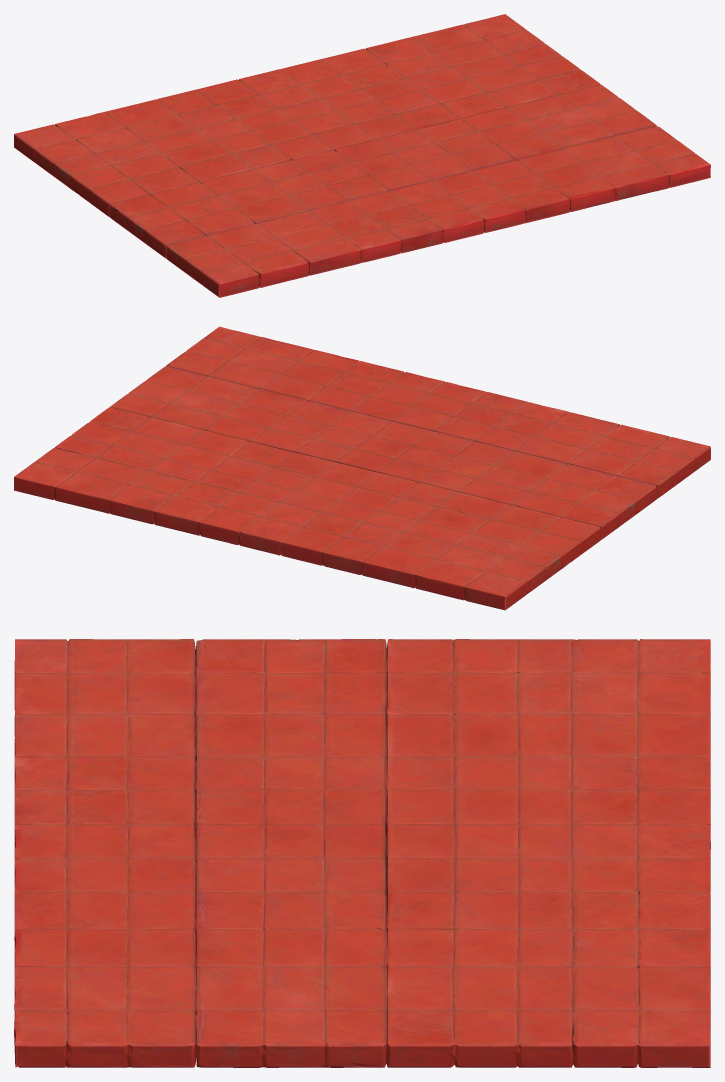
The model's file is walkway.fbx.
The picture shows the model from 3 angles, top to bottom: view 1: azimuth 30°, elevation 25°; view 2: azimuth 150°, elevation 25°; view 3: azimuth 270°, elevation 25°; orthographic projection. The views are drawn at different scales.
Parts seen in each view (by area): view 1: temp; view 2: temp; view 3: temp.
Part boxes in pixels (<box>): temp: <box>14,14,710,297</box>; temp: <box>14,326,710,610</box>; temp: <box>14,639,710,1067</box>.
Bounding box in the file's own units: 734 × 20 × 532.
Materials: 1 (1 with a texture image).
